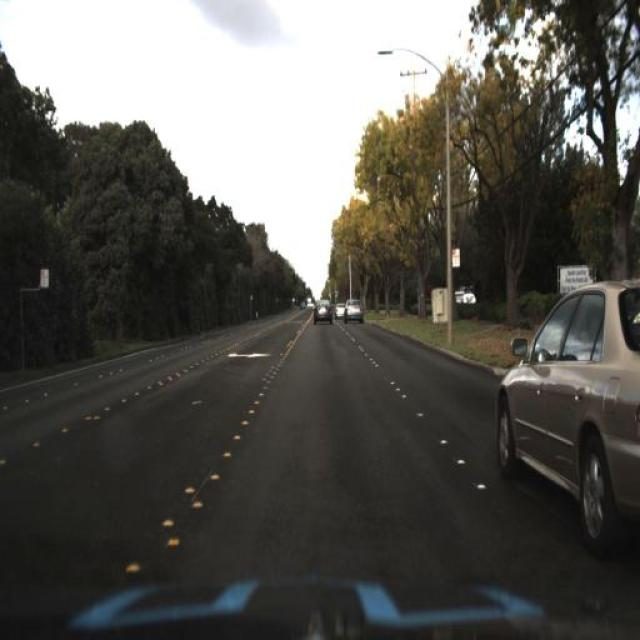car: (492, 263, 636, 556), (493, 276, 639, 558), (340, 288, 370, 330), (305, 292, 339, 329), (331, 296, 347, 322)
